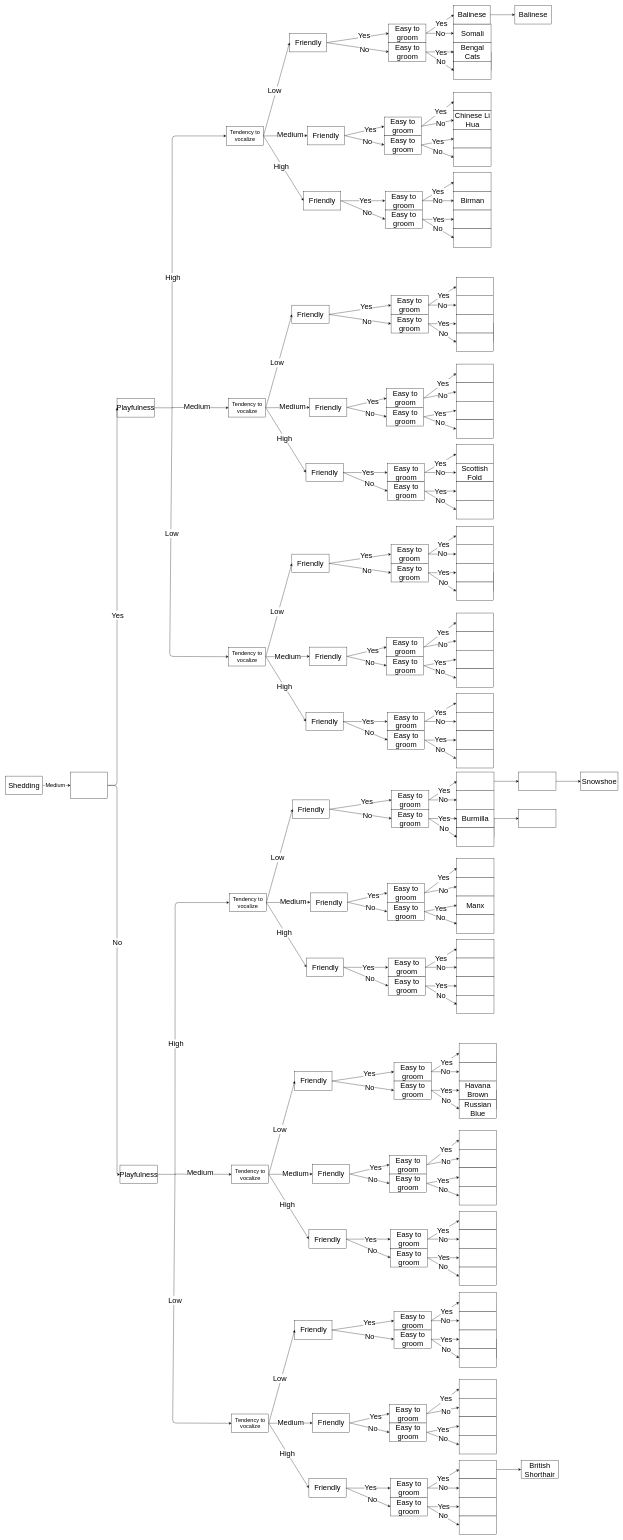
The diagram is 623 pixels wide and 1540 high, and some of its shapes have lost their labels. Each missing label, with the centre of its shape:
"American Shorthair" goes at (477,1469).
"Egyptian Mau" goes at (537,818).
"Japanese Bobtail" goes at (475,781).
"prone to health problem" goes at (89,785).
"Savannah" goes at (537,781).
